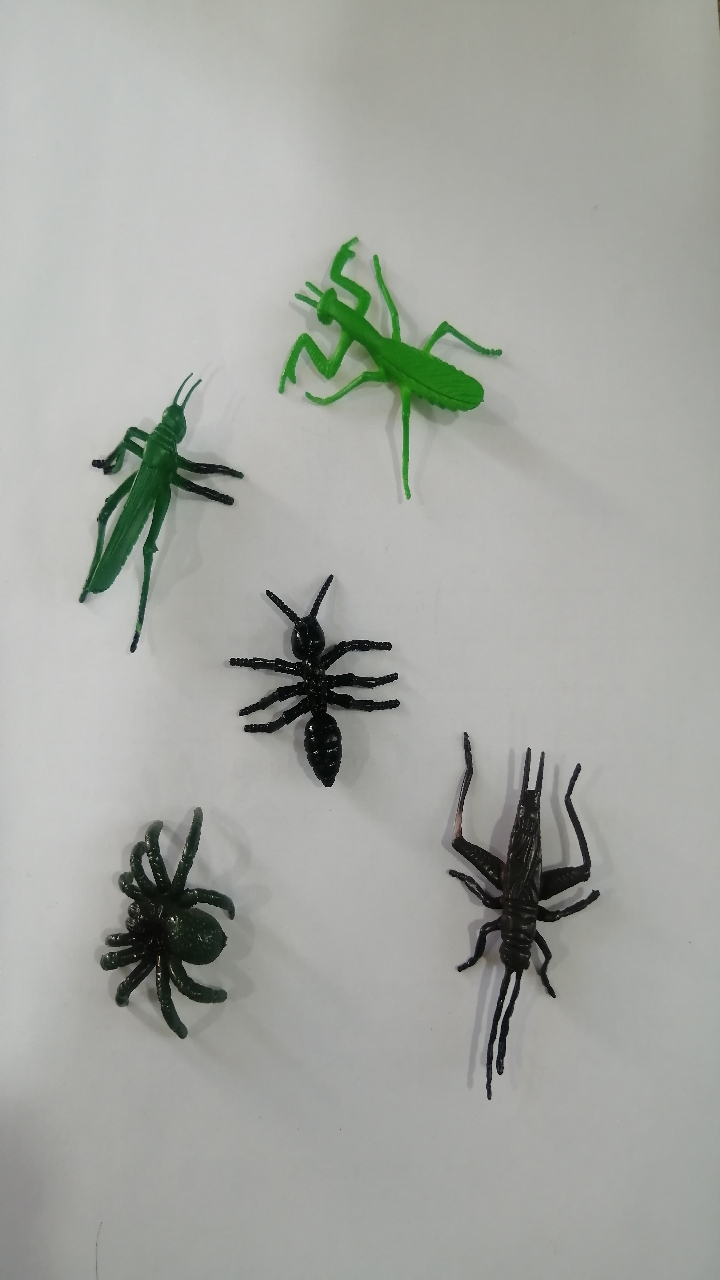intruso: (264, 183, 535, 517), (401, 705, 614, 1115), (40, 771, 284, 1077), (31, 349, 261, 662), (215, 543, 417, 799)
